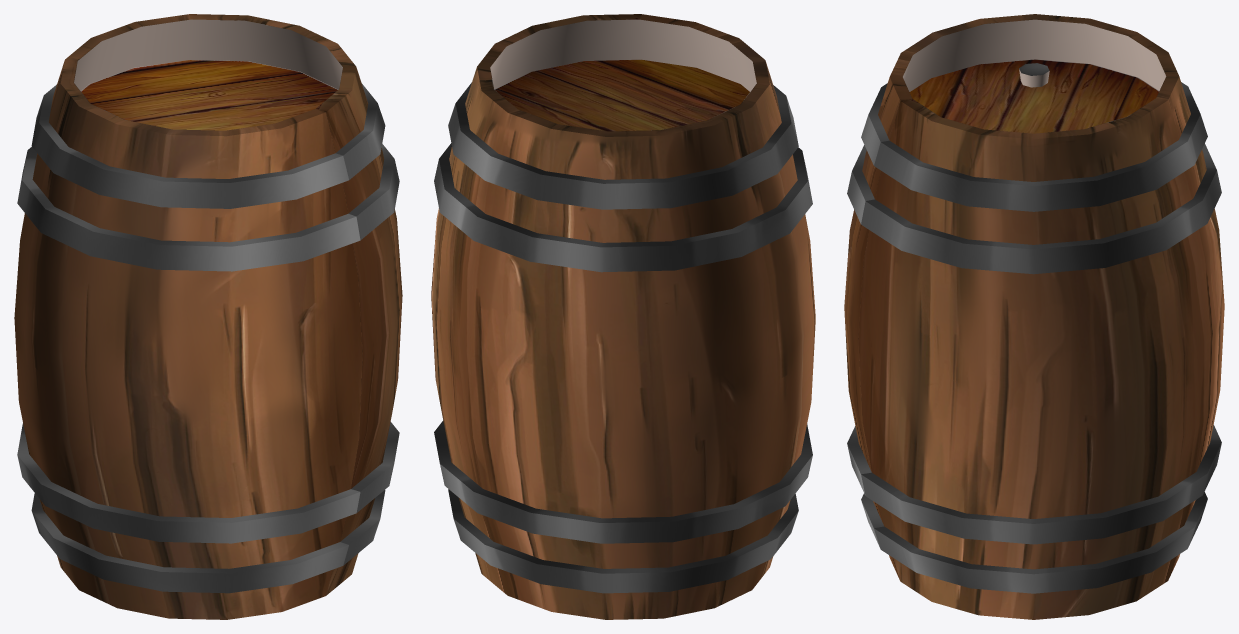
The model's file is barrel.fbx.
The picture shows the model from 3 angles, left to right: view 1: azimuth 30°, elevation 25°; view 2: azimuth 150°, elevation 25°; view 3: azimuth 270°, elevation 25°; orthographic projection.
Visible parts, largest first — view 1: barrel1:Barrel; view 2: barrel1:Barrel; view 3: barrel1:Barrel.
Boxes of the visible parts, x1,y1,x2,y2 form: barrel1:Barrel: (14, 14, 402, 619); barrel1:Barrel: (431, 14, 815, 619); barrel1:Barrel: (844, 14, 1224, 619).
Bounding box in the file's own units: 74.92 × 102 × 73.22.
Materials: 1 (1 with a texture image).
